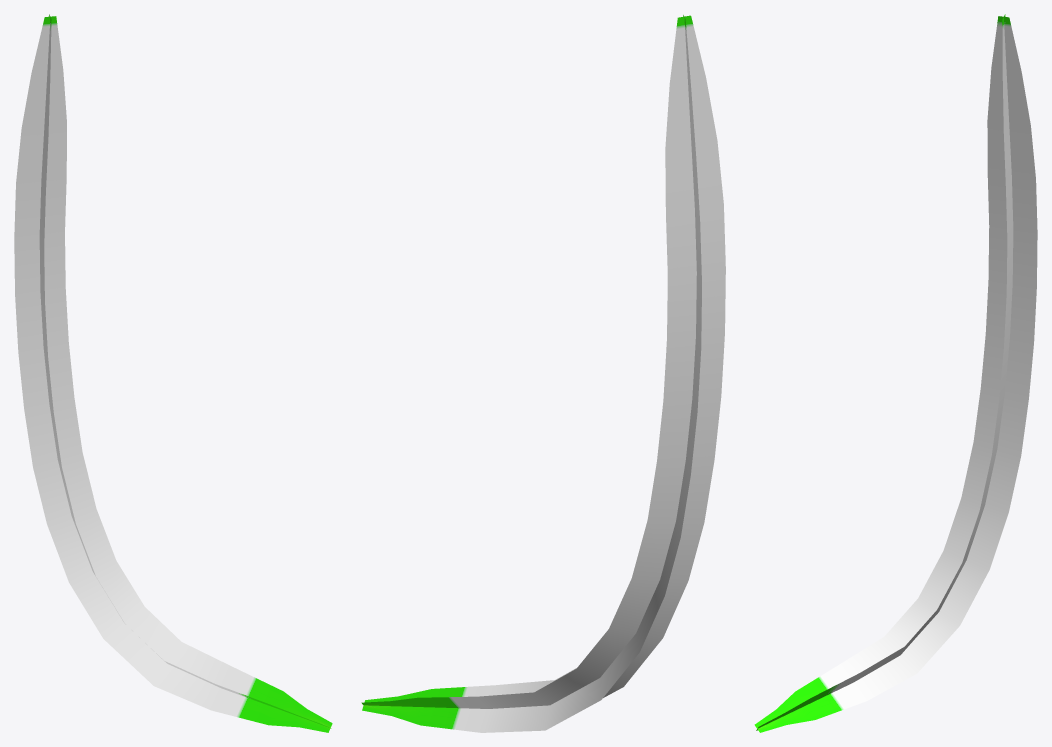
File: xiangshangtiaodai01.FBX
3 views of the same model, side by side, from view 1: azimuth 30°, elevation 25°; view 2: azimuth 210°, elevation 25°; view 3: azimuth 270°, elevation 25° (orthographic). The views are drawn at different scales.
Parts seen in each view (by area): view 1: Plane002; view 2: Plane002; view 3: Plane002.
Part boxes in pixels (x1=…): Plane002: x1=14, y1=14, x2=332, y2=732; Plane002: x1=361, y1=15, x2=725, y2=732; Plane002: x1=754, y1=14, x2=1037, y2=732.
Size of the model in its own units: 0.7145 by 2.44 by 0.9744.
